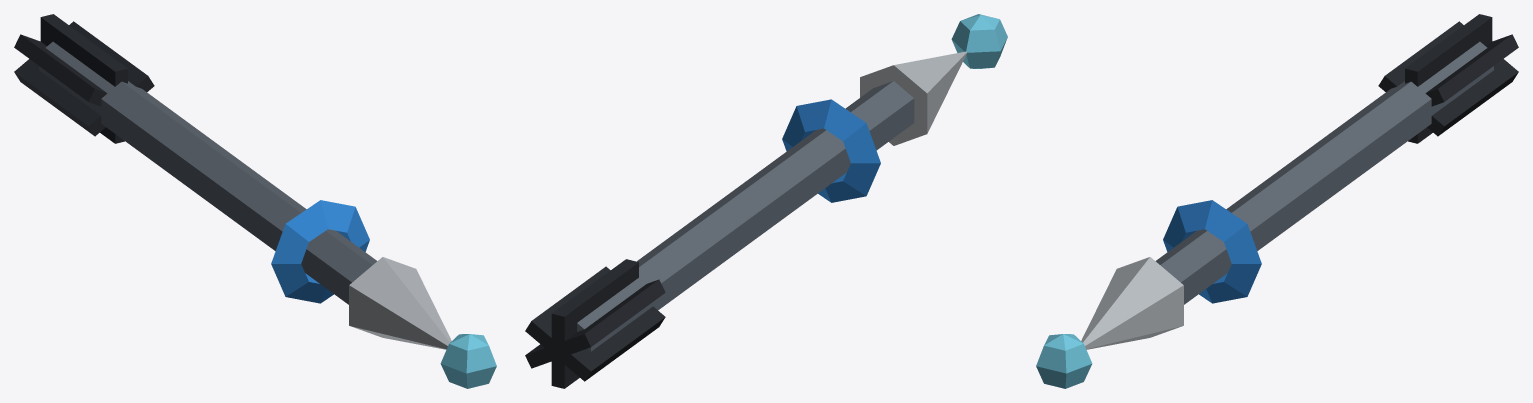
The model's file is bolt-electrifying.glb.
3 renders of one model, left to right at view 1: azimuth 30°, elevation 25°; view 2: azimuth 150°, elevation 25°; view 3: azimuth 330°, elevation 25°, orthographic.
Parts seen in each view (by area): view 1: m; view 2: m; view 3: m.
Part boxes in pixels (x1,y1,x2,y2): m: [14, 14, 496, 388]; m: [525, 14, 1007, 388]; m: [1036, 14, 1518, 388].
Size of the model in its own units: 0.021 by 0.021 by 0.16.
